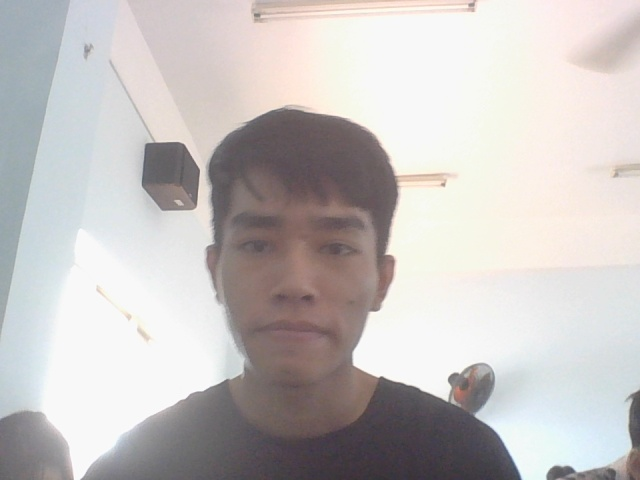real: (192, 94, 410, 403)
